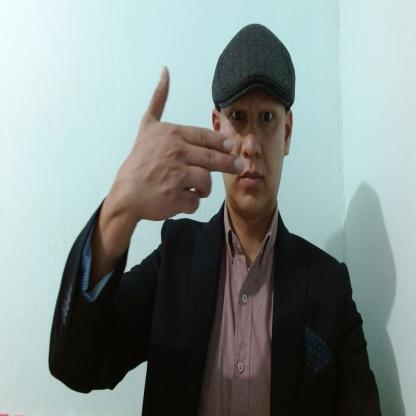H: (125, 65, 244, 223)
